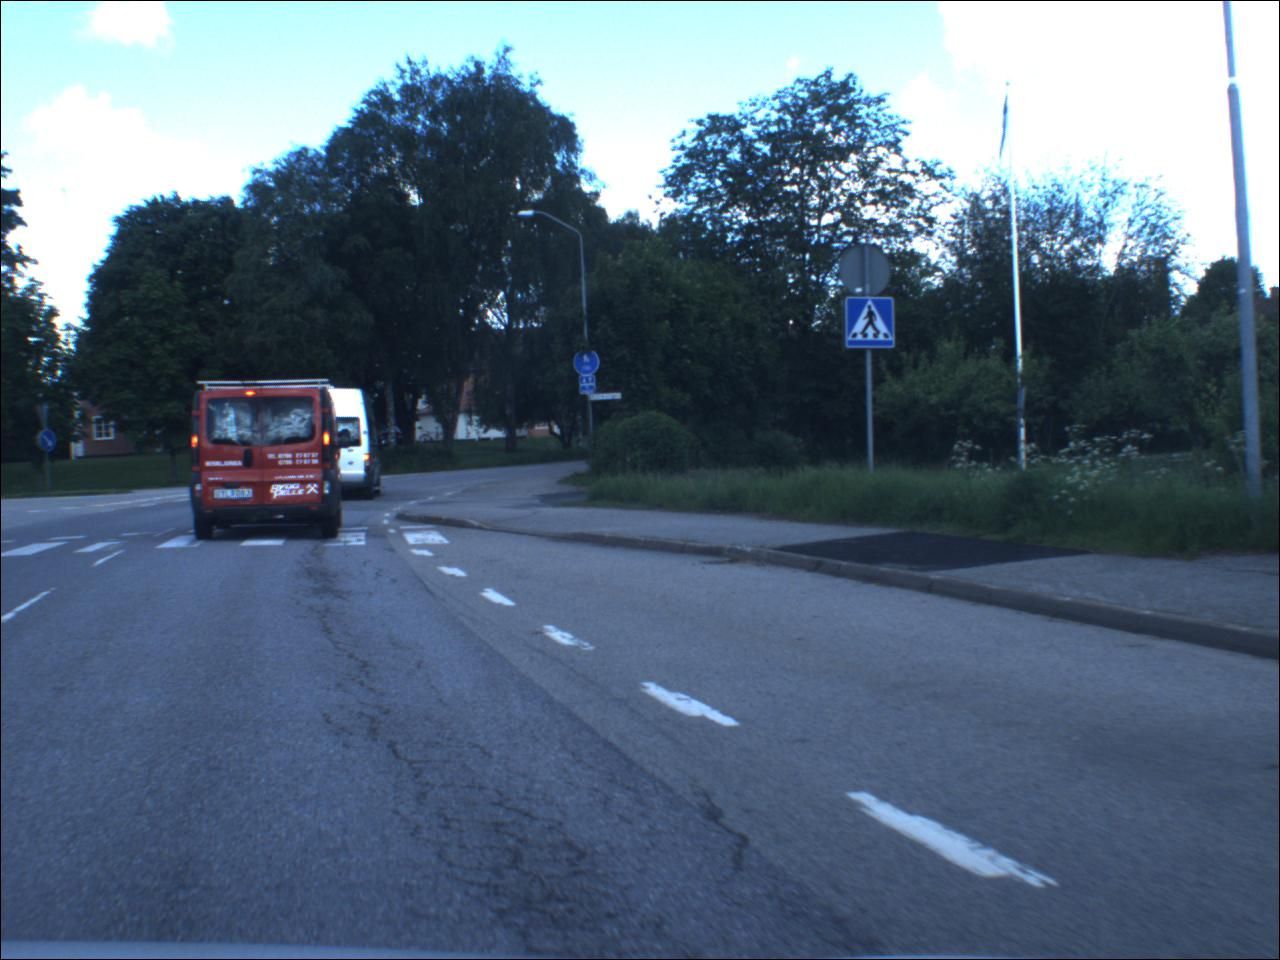PASS_RIGHT_SIDE: (41, 431, 59, 454)
PEDESTRIAN_CROSSING: (847, 298, 898, 351)
